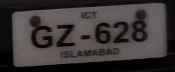GZ628: (4, 3, 171, 69)
